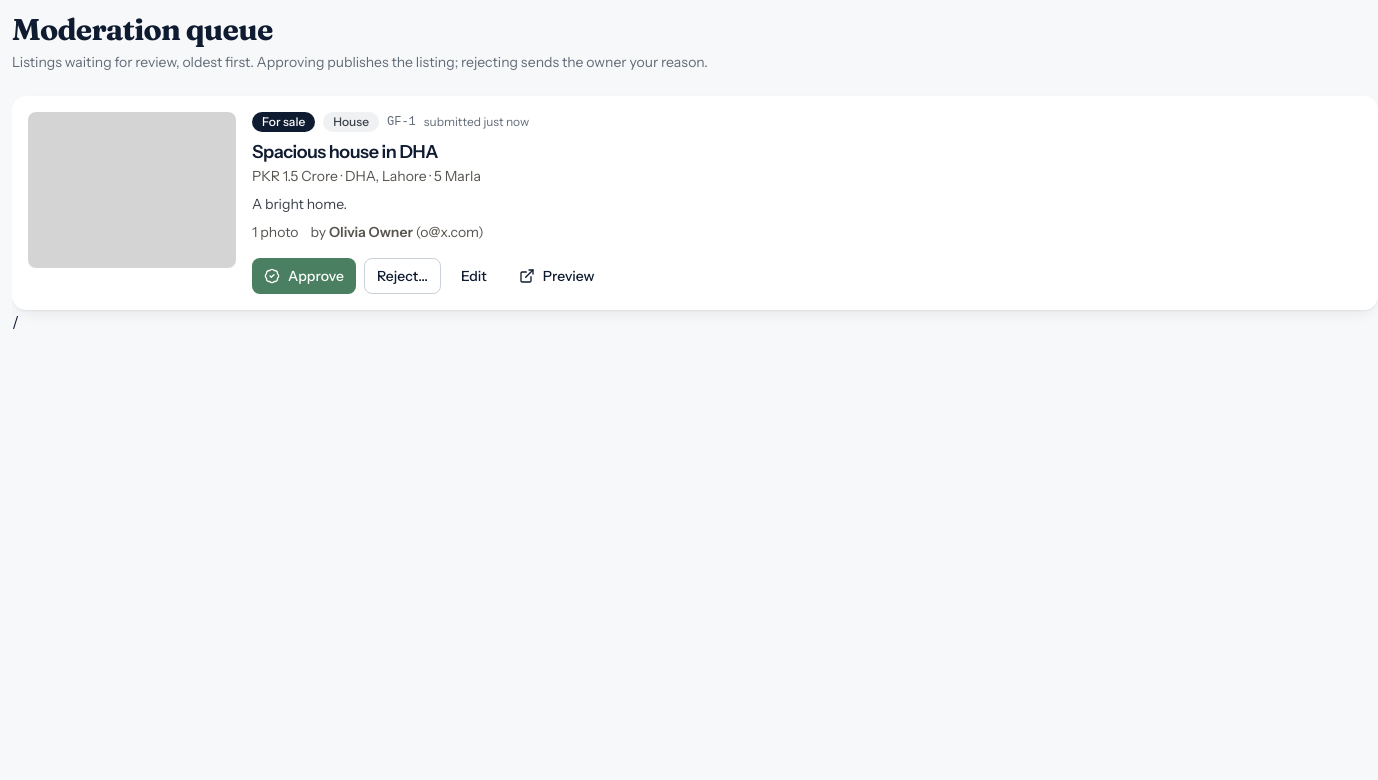
Test: moderation queue › explains a refusal from the server (for example, someone else already decided)
The width and height of the screenshot is (1378, 780).
Click the button "Approve" at {"x": 304, "y": 276}, box x1=252 y1=258 x2=356 y2=294
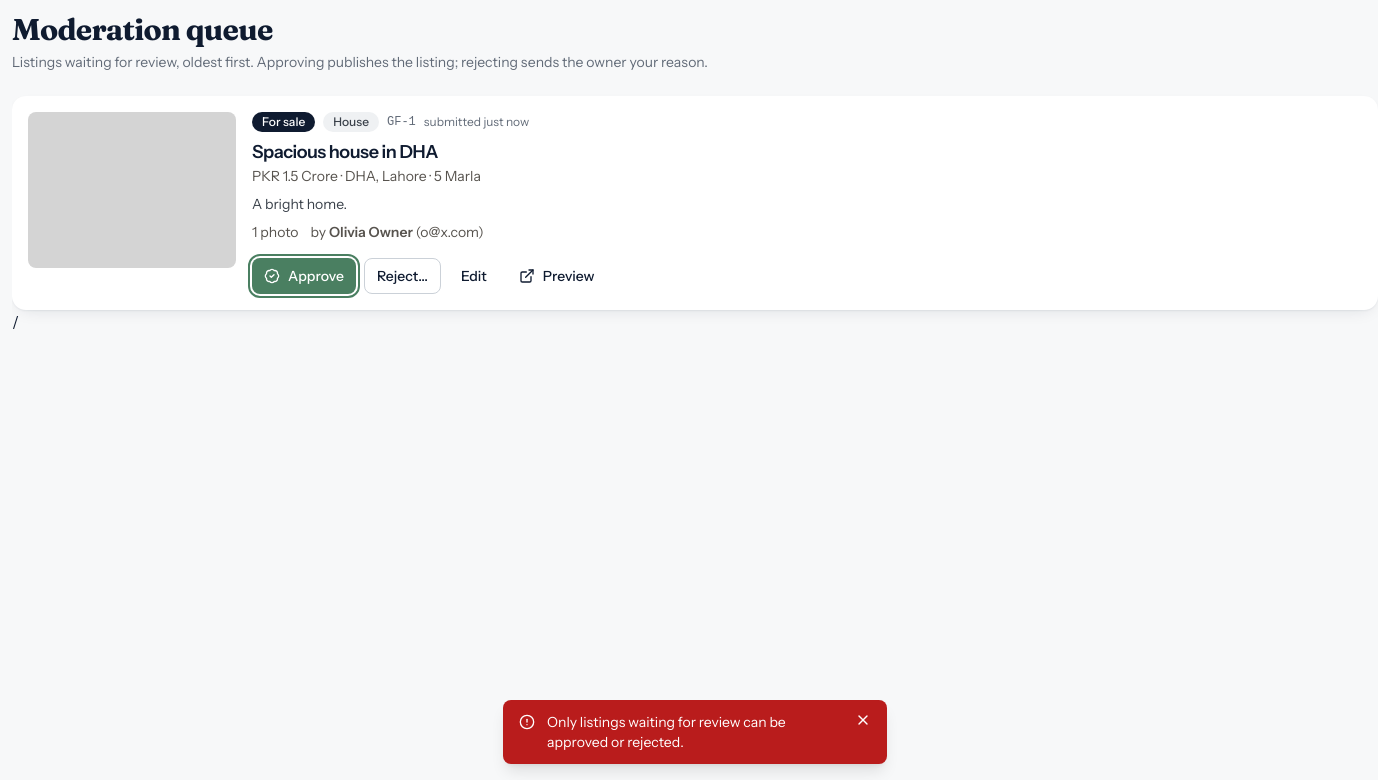
Result: the text "Only listings waiting for review" is shown at x1=547 y1=713 x2=786 y2=751
